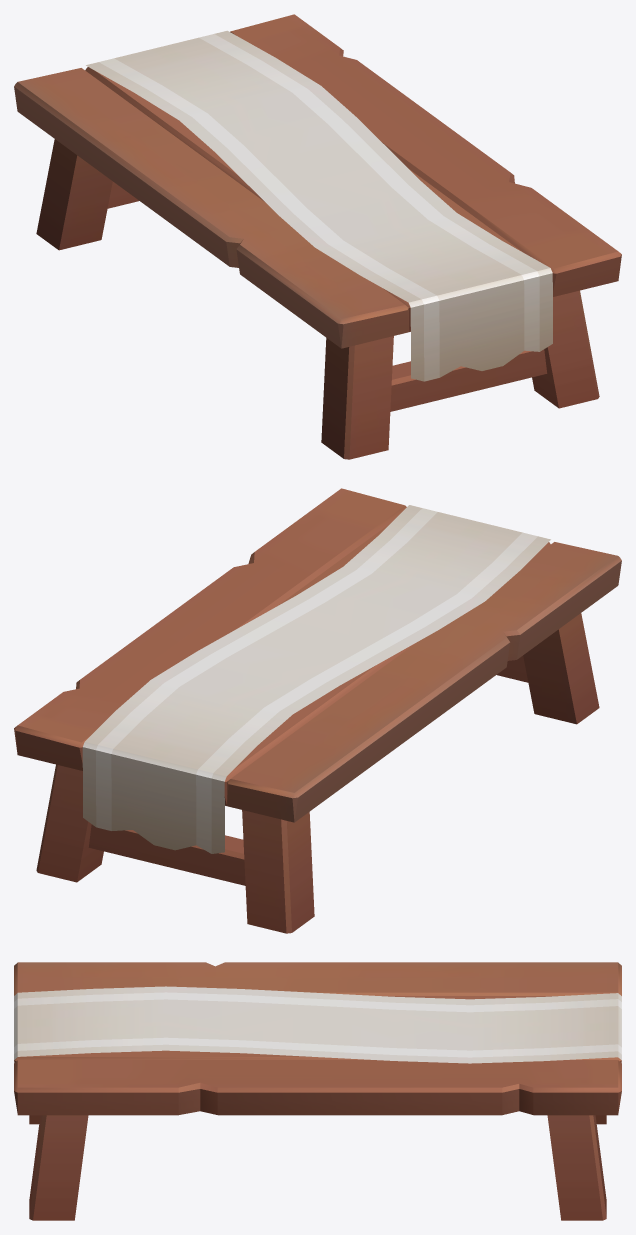
File: table_long_tablecloth.glb
3 views of the same model, one above another, from view 1: azimuth 30°, elevation 25°; view 2: azimuth 150°, elevation 25°; view 3: azimuth 270°, elevation 25° (orthographic). The views are drawn at different scales.
Visible parts, largest first — view 1: table_long_tablecloth; view 2: table_long_tablecloth; view 3: table_long_tablecloth.
Part boxes in pixels (left/top/right/bottom): table_long_tablecloth: left=14, top=14, right=621, bottom=459; table_long_tablecloth: left=14, top=488, right=621, bottom=933; table_long_tablecloth: left=14, top=962, right=621, bottom=1220.
Bounding box in the file's own units: 2 × 1 × 4.
Materials: 1 (1 with a texture image).
